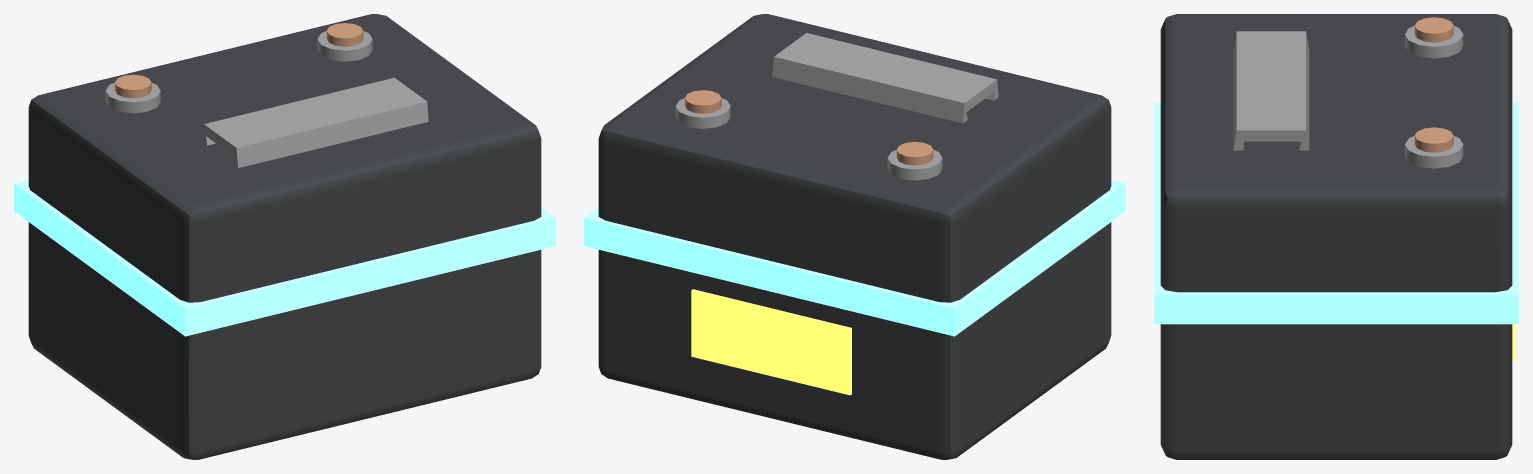
File: plough_cell.glb
The picture shows the model from 3 angles, left to right: view 1: azimuth 30°, elevation 25°; view 2: azimuth 150°, elevation 25°; view 3: azimuth 270°, elevation 25°; orthographic projection. The views are drawn at different scales.
Parts seen in each view (by area): view 1: plough_cell; view 2: plough_cell; view 3: plough_cell.
Boxes of the visible parts, x1,y1,x2,y2 form: plough_cell: (14, 14, 555, 459); plough_cell: (584, 14, 1125, 459); plough_cell: (1154, 14, 1518, 459).
Bounding box in the file's own units: 0.7 × 0.495 × 0.56.
